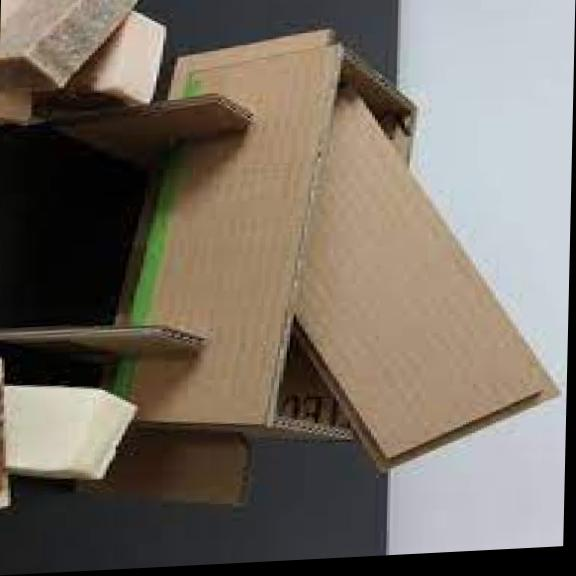Kertas: (113, 30, 415, 440)
